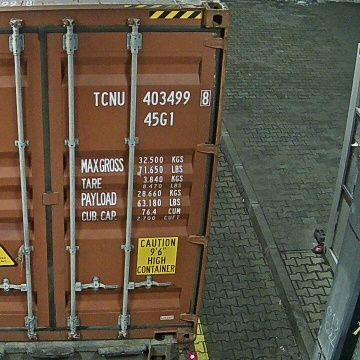serial_id: (93, 91, 209, 105)
